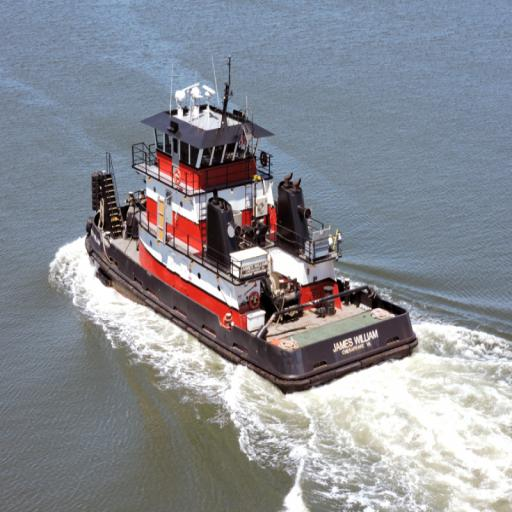tugboat: (80, 79, 424, 397)
